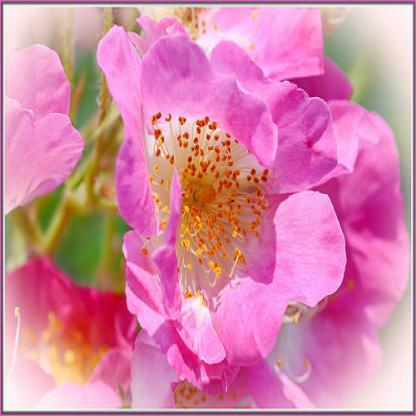Rose-Mawar: (95, 16, 352, 412)
